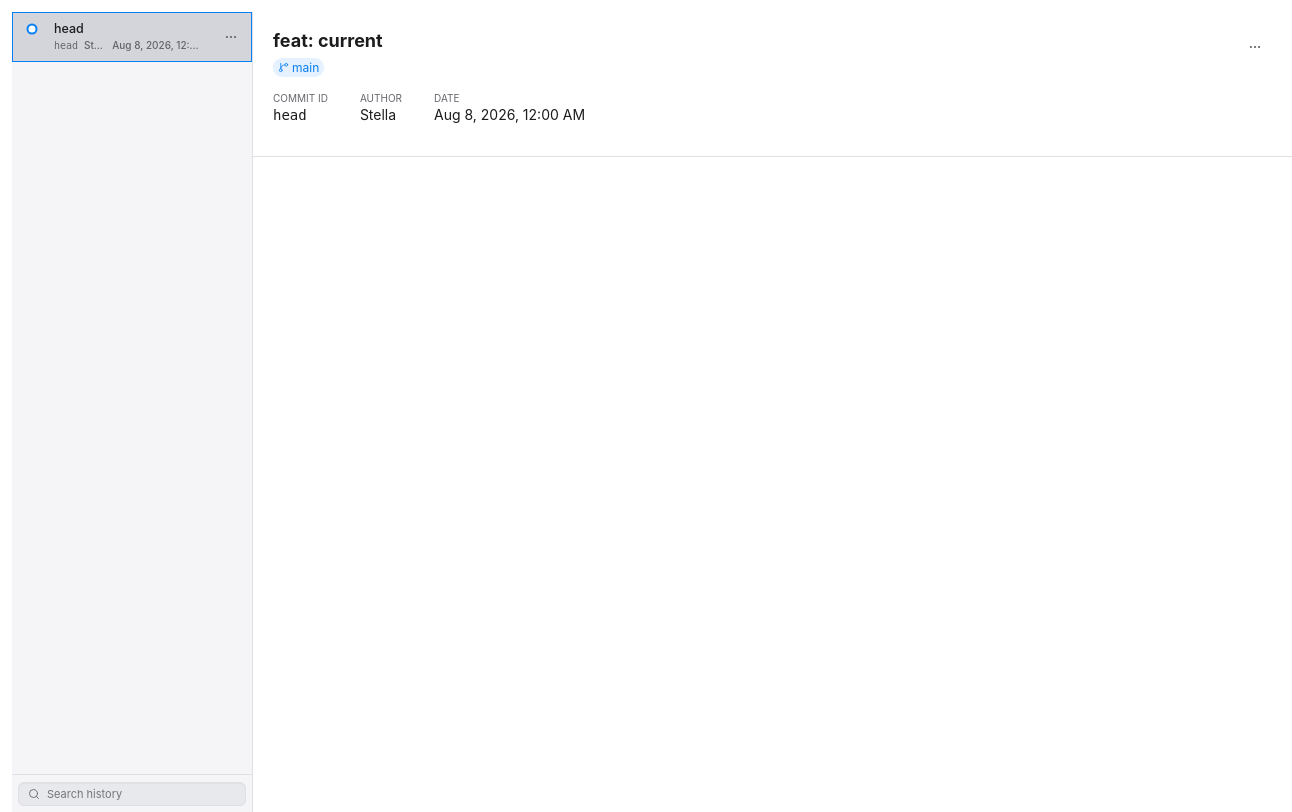
Test: HistoryView › shows an empty state when operation history has no search matches
The image size is (1292, 812).
Type "missing" into the search field labelled "Search history" at (132, 794), box [18,782,246,806]
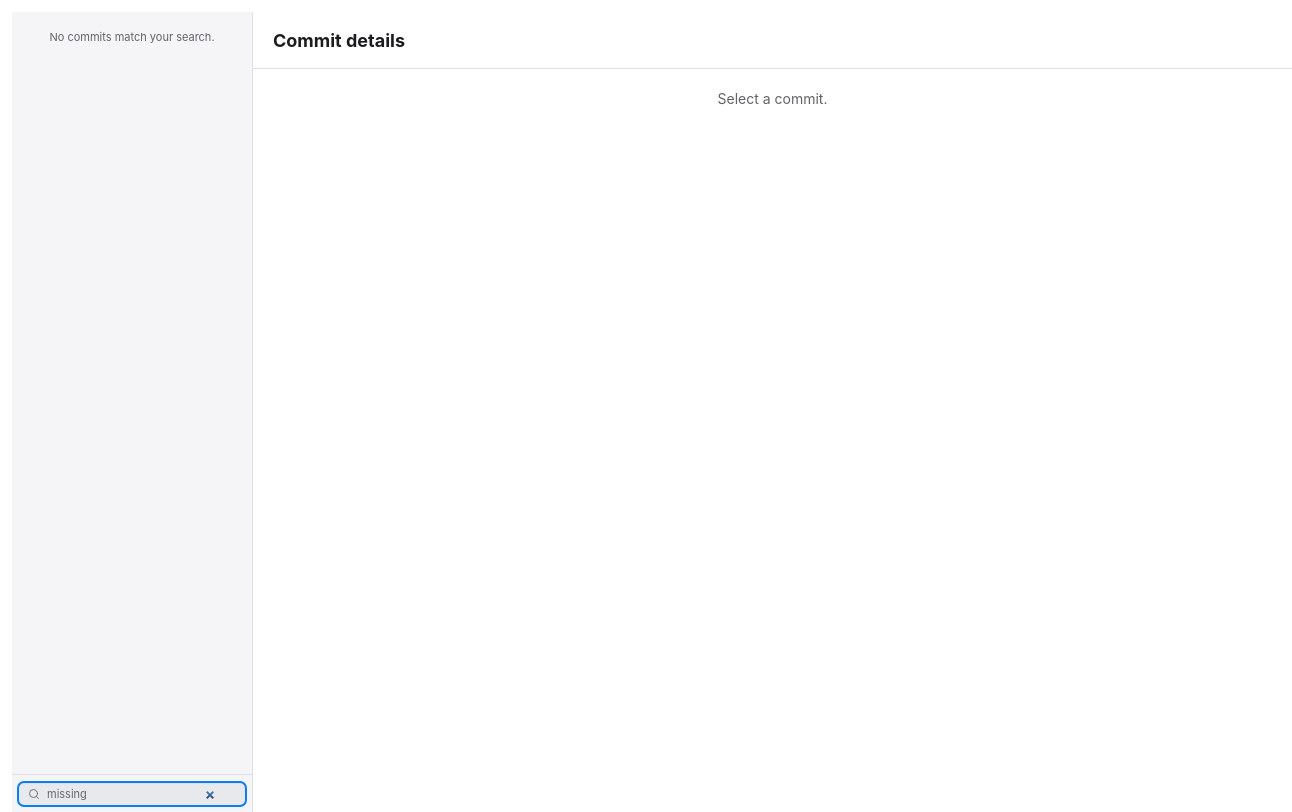
Result: the list item "No commits match your search." is shown at [50,30,215,44]
